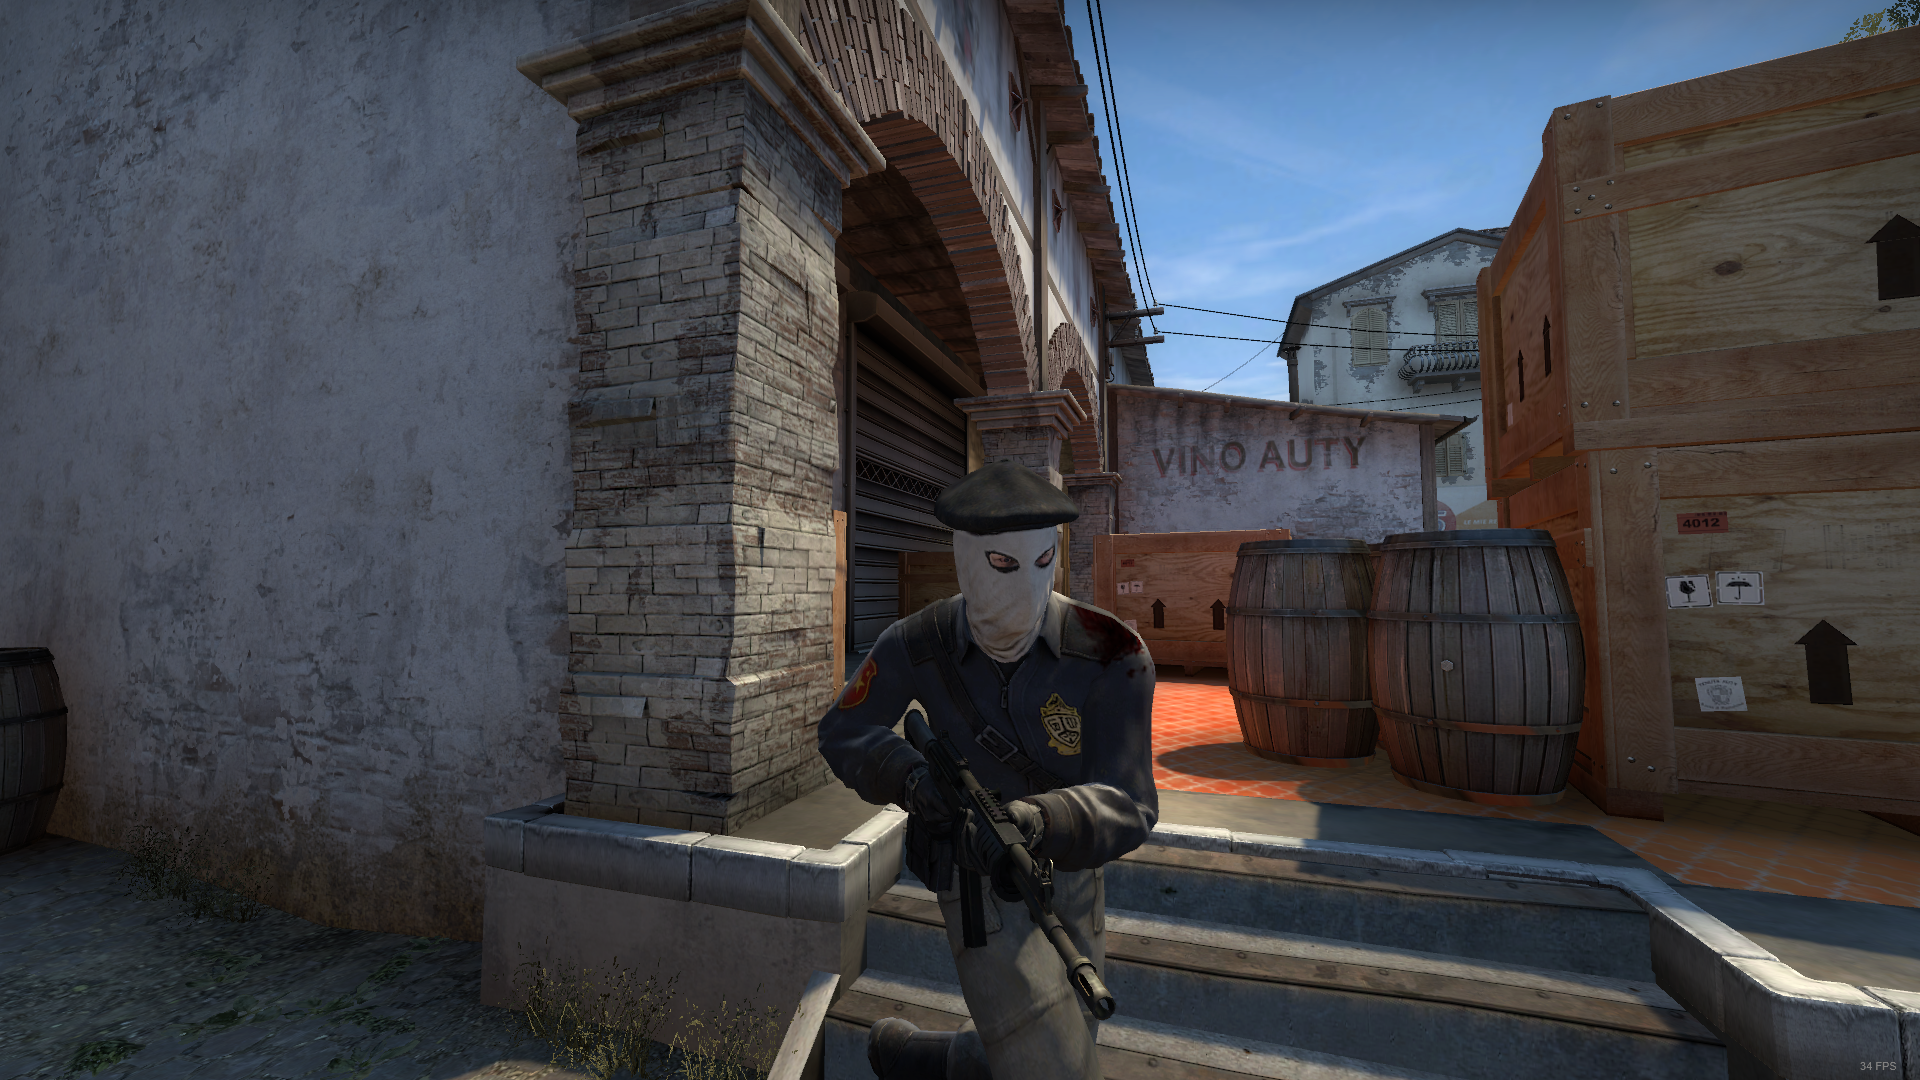t: (820, 463, 1156, 1080)
